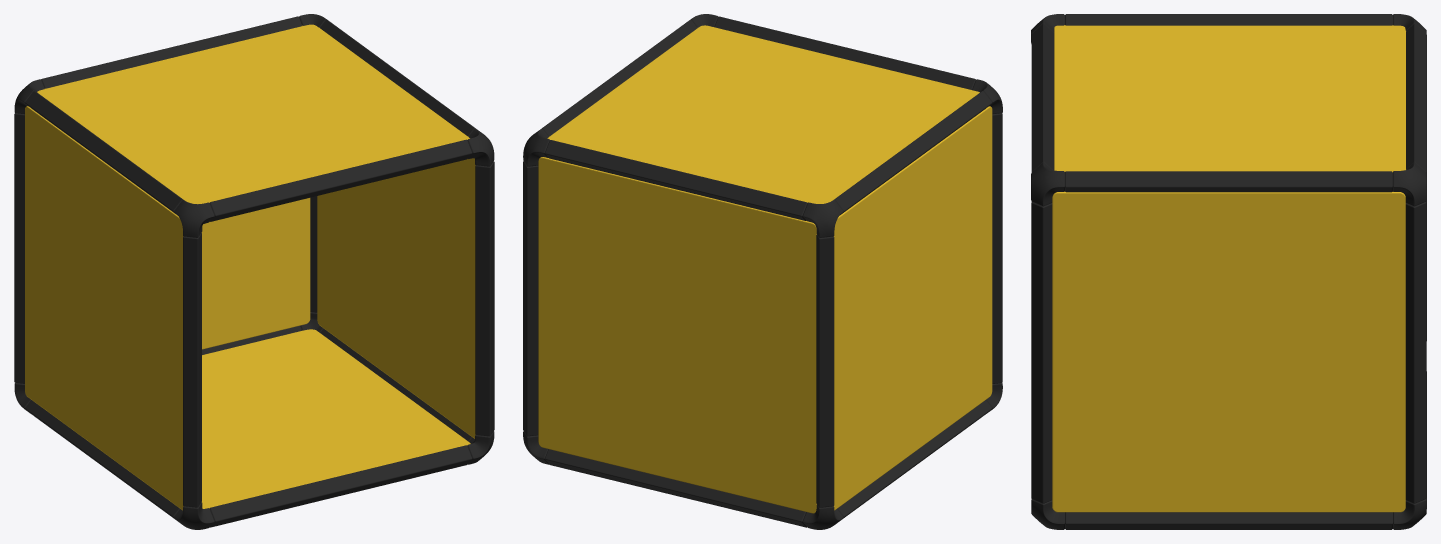
3 views of the same model, side by side, from view 1: azimuth 30°, elevation 25°; view 2: azimuth 150°, elevation 25°; view 3: azimuth 270°, elevation 25° (orthographic). The views are drawn at different scales.
Parts seen in each view (by area): view 1: 374x374x374; view 2: 374x374x374; view 3: 374x374x374.
Part boxes in pixels (x1,y1,x2,y2): 374x374x374: (14,14,494,529); 374x374x374: (523,14,1002,529); 374x374x374: (1031,14,1426,529).
Size of the model in its own units: 0.4517 by 0.4516 by 0.4513.
